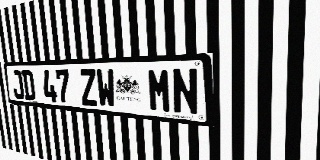4: (41, 70, 58, 103)
7: (55, 70, 72, 104)
D: (21, 70, 36, 101)
J: (11, 70, 25, 100)
M: (147, 68, 172, 113)
N: (171, 68, 199, 116)
W: (96, 69, 116, 108)
Z: (79, 69, 98, 107)
